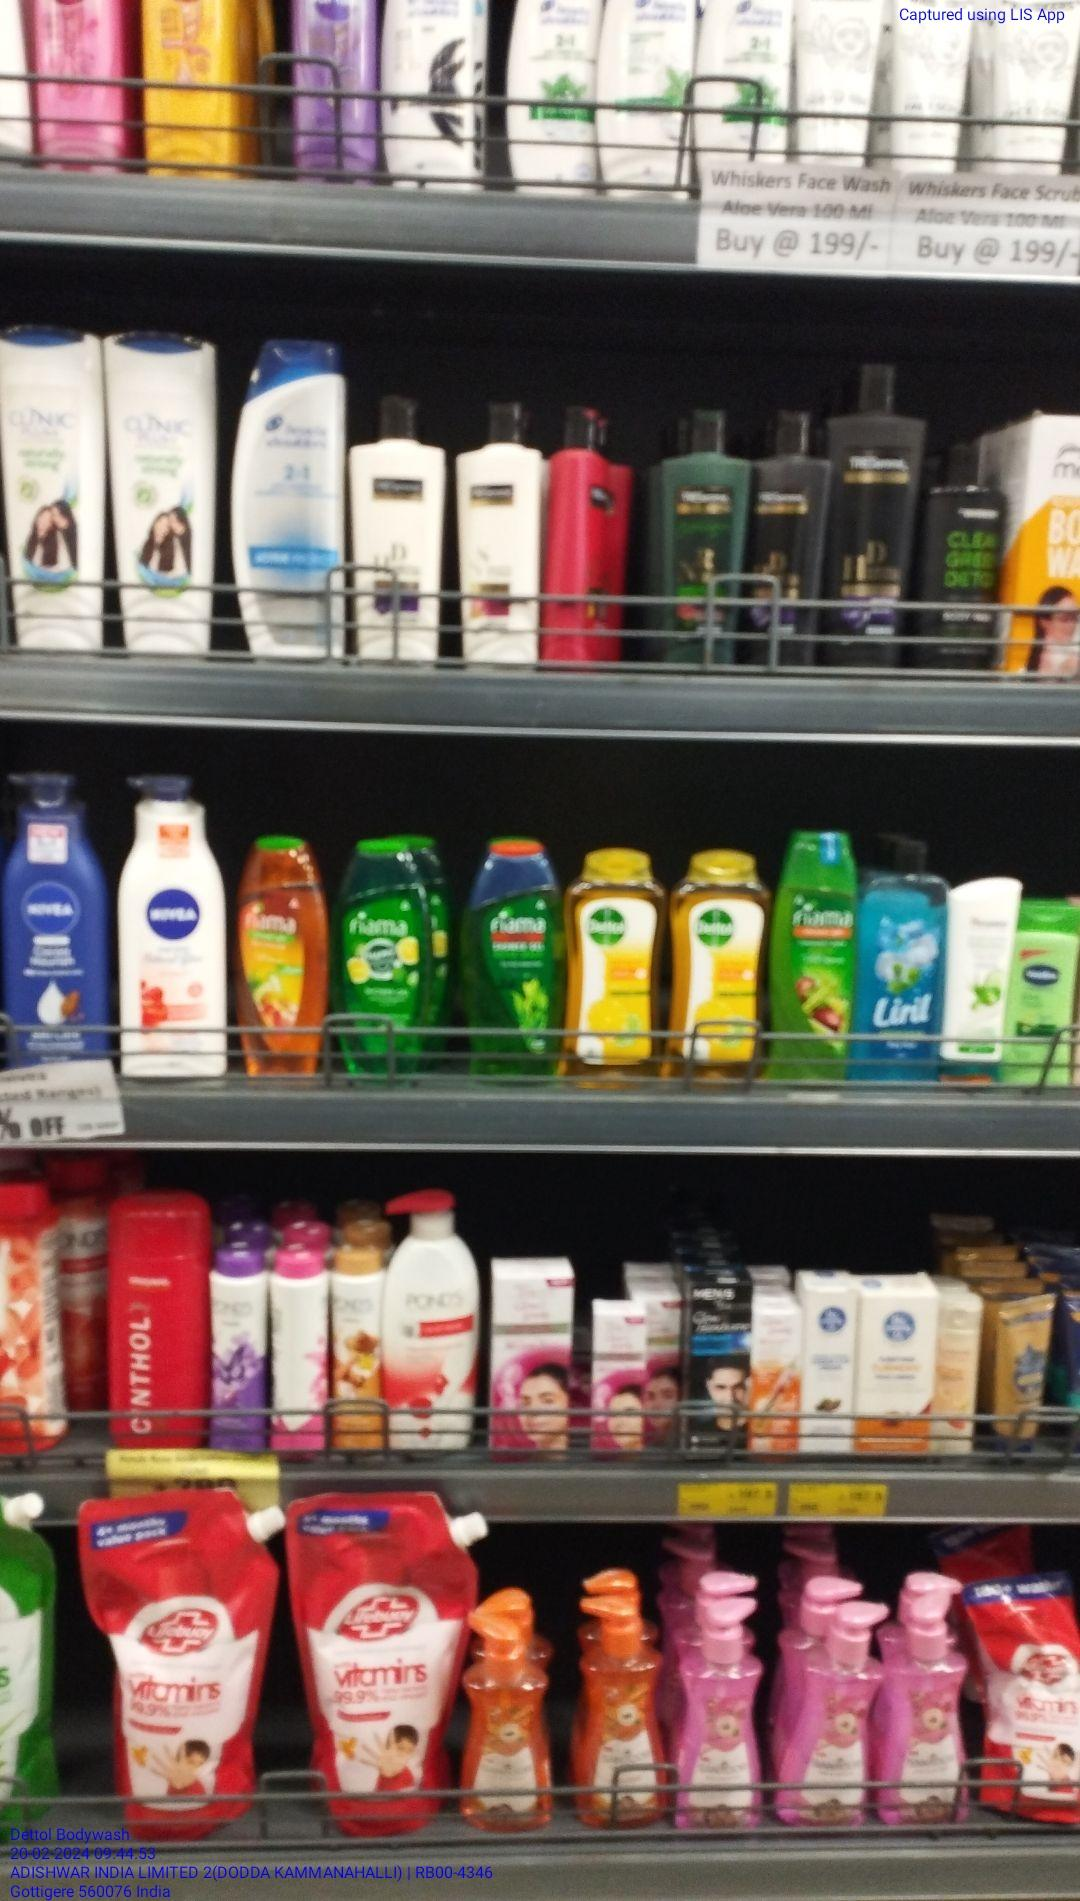Dettol_Bodywash_Refresh: (666, 853, 767, 1080), (562, 854, 656, 1078)
Fiama_Shower_Gel_Lemongrass_and_Jojoba_250ML: (774, 824, 855, 1082)
Fiama_Shower_Gel_Peach_and_Avocado_250ML: (232, 838, 329, 1073)
Liril_Cooling_Mint_Body_Wash_250ML: (861, 836, 943, 1081)
